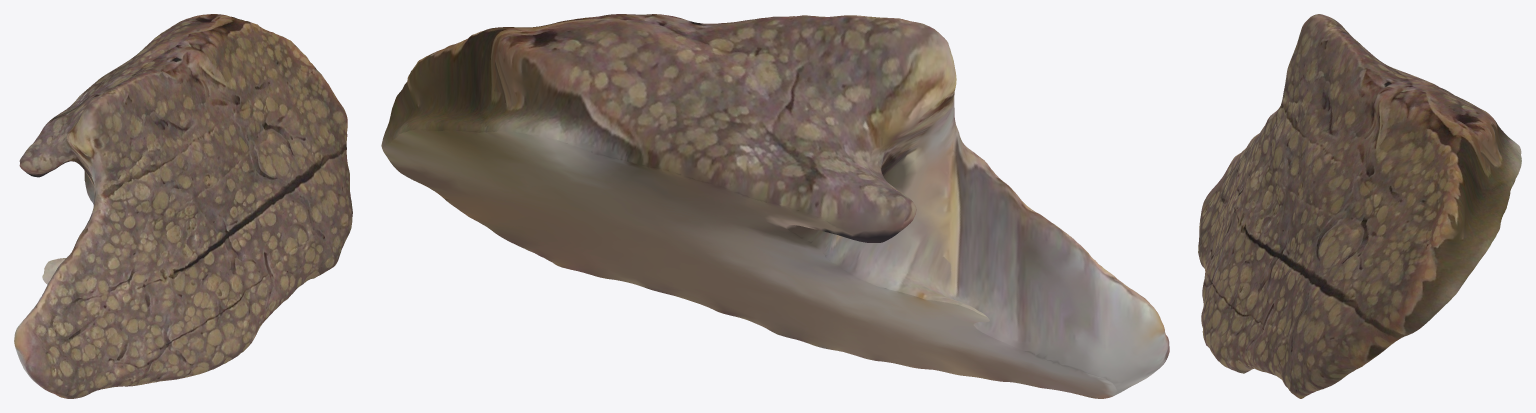
File: a_ciroznajetra.gltf
The picture shows the model from 3 angles, left to right: view 1: azimuth 30°, elevation 25°; view 2: azimuth 150°, elevation 25°; view 3: azimuth 270°, elevation 25°; orthographic projection. The views are drawn at different scales.
Bounding box in the file's own units: 0.1469 × 0.0891 × 0.0862.
Materials: 1 (1 with a texture image).
